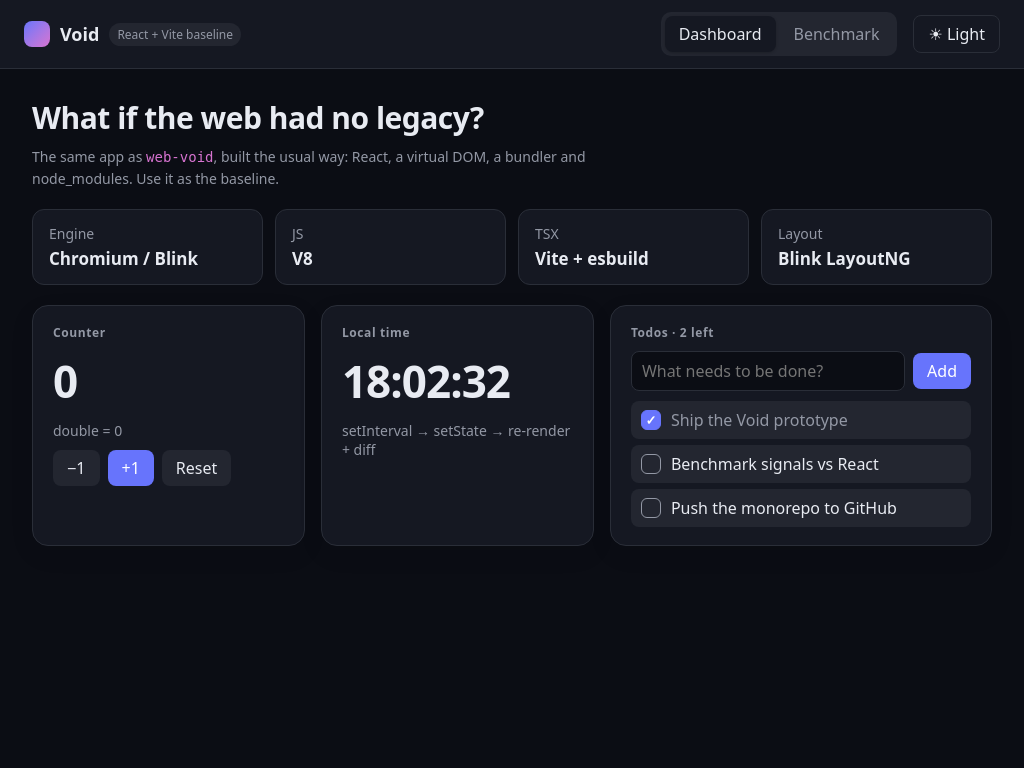
web-react baseline › counts up and down
The width and height of the screenshot is (1024, 768).
Click the button "+1" at coordinates (131, 468), box [108, 450, 154, 486]
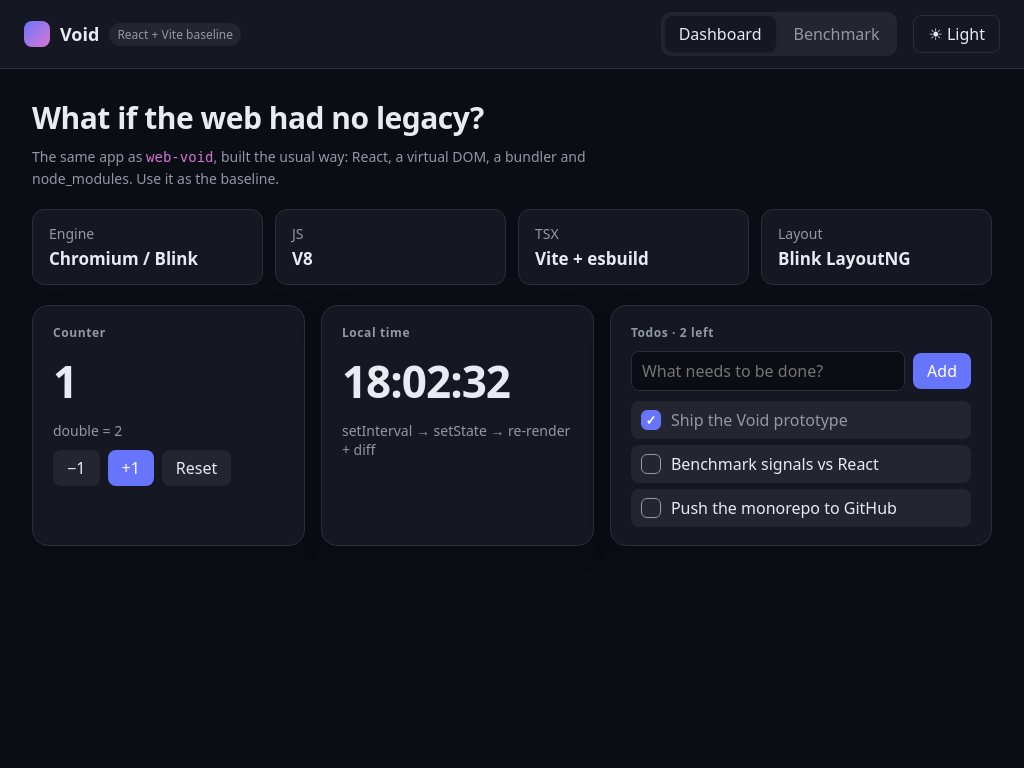
Click the button "+1" at coordinates (131, 468), box [108, 450, 154, 486]
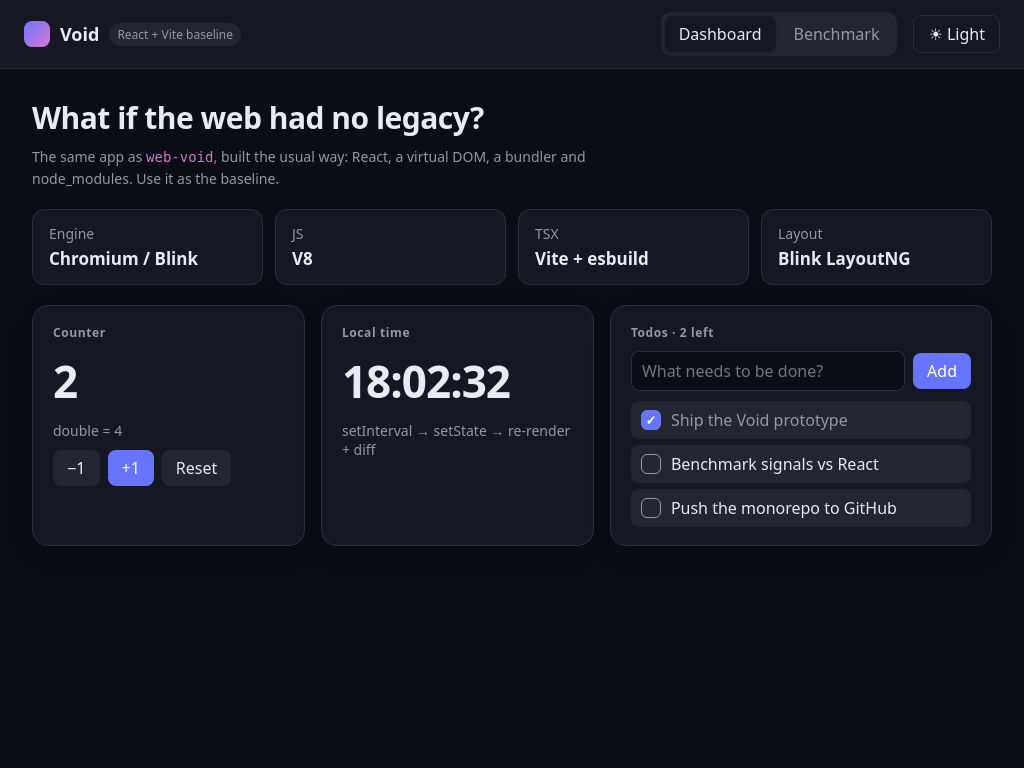
Click the button "+1" at coordinates (131, 468), box [108, 450, 154, 486]
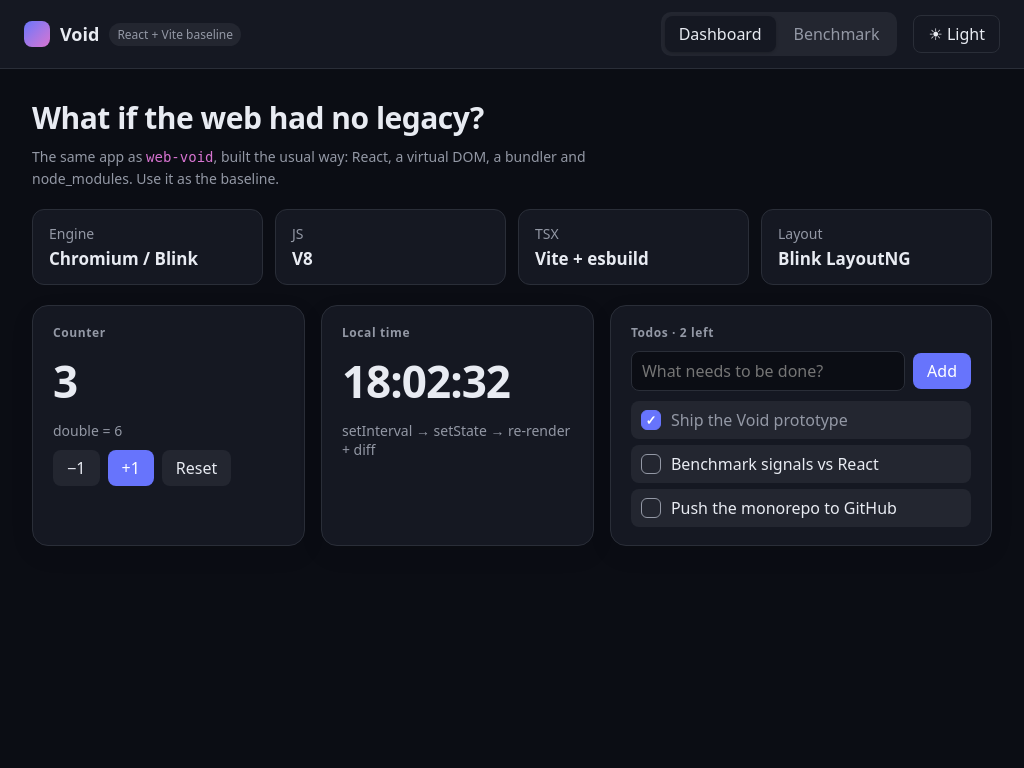
Click the button "−1" at coordinates (76, 468), box [53, 450, 100, 486]
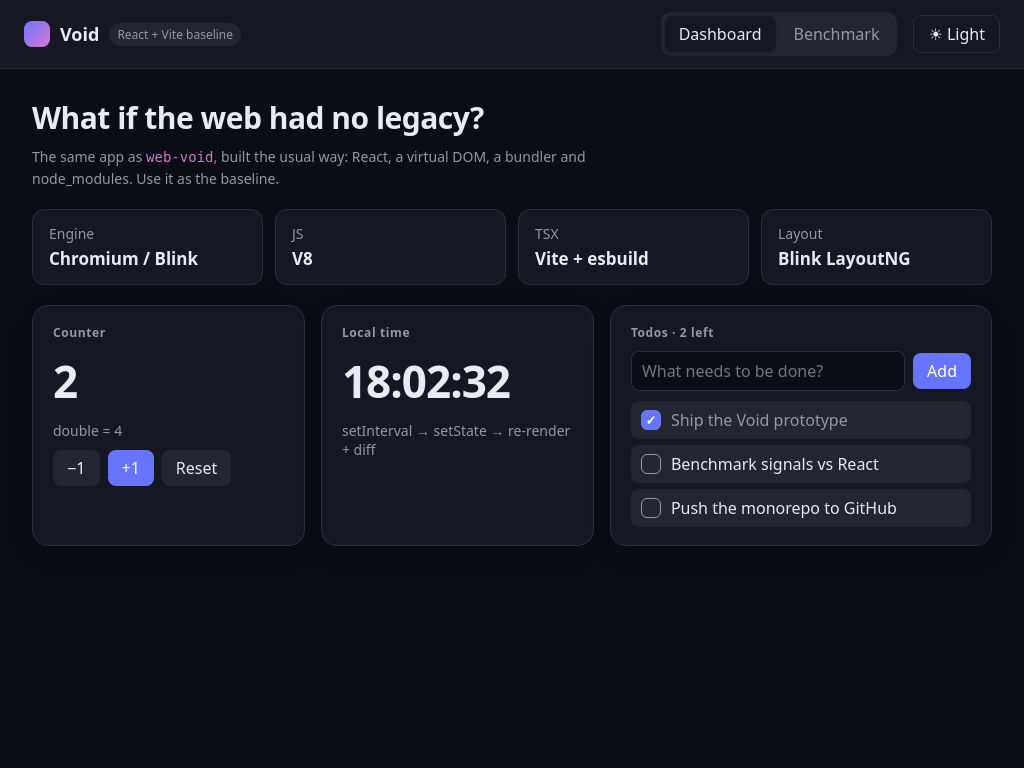
expect the text "double = 4" is shown: met, box [53, 421, 122, 440]
Click the button "Reset" at coordinates (197, 468), box [162, 450, 231, 486]
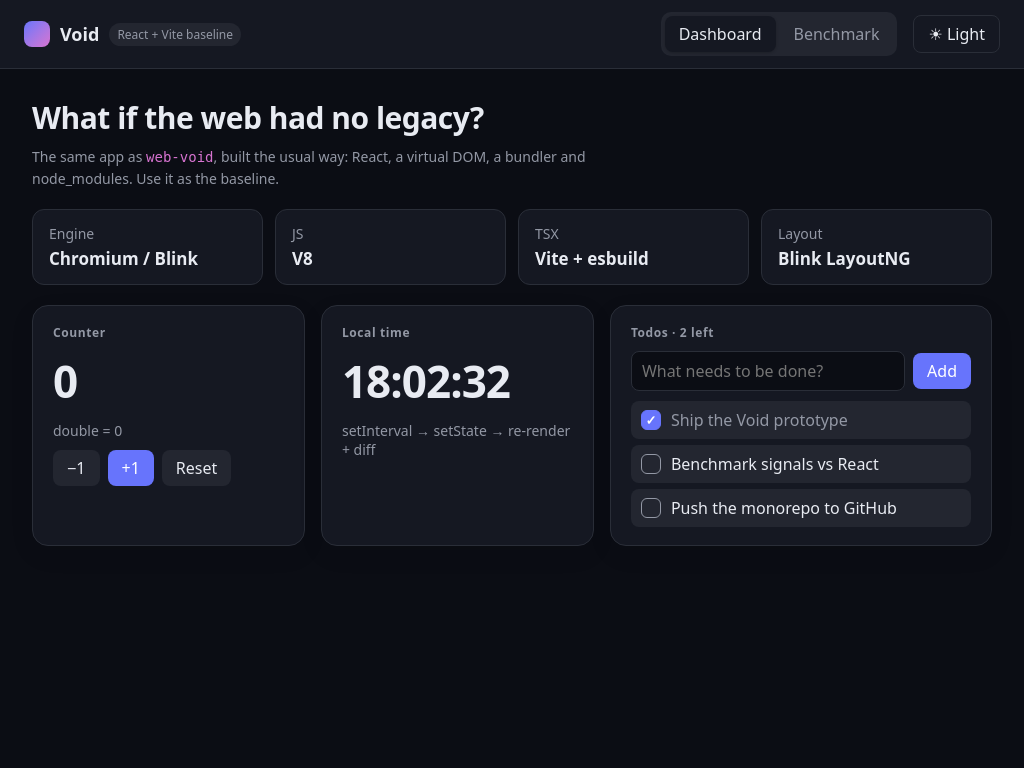
expect the text "double = 0" is shown: met, box [53, 421, 122, 440]
